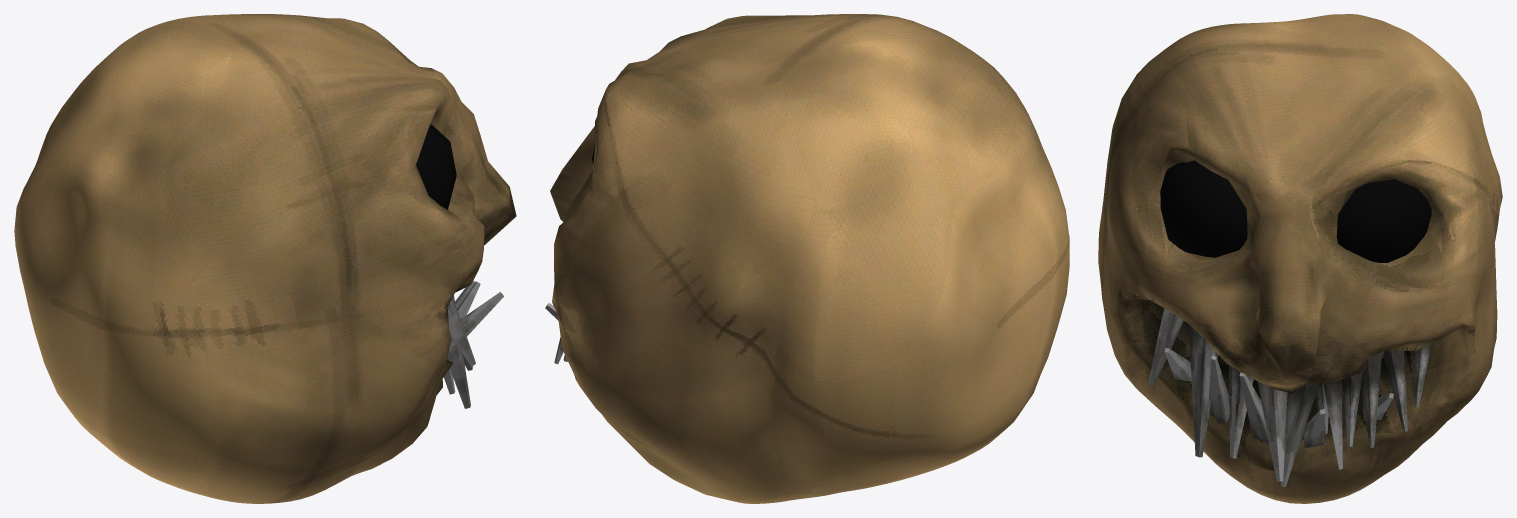
Rendered from mp_gambler mesh3.glb.
3 renders of one model, left to right at view 1: azimuth 30°, elevation 25°; view 2: azimuth 150°, elevation 25°; view 3: azimuth 270°, elevation 25°, orthographic. The views are drawn at different scales.
Parts seen in each view (by area): view 1: Sphere_002; view 2: Sphere_002; view 3: Sphere_002.
Part boxes in pixels (<box>): Sphere_002: <box>14,14,516,503</box>; Sphere_002: <box>545,14,1069,503</box>; Sphere_002: <box>1098,14,1502,503</box>.
Size of the model in its own units: 1.79 by 1.69 by 1.5.
Materials: 3 (2 with a texture image).
